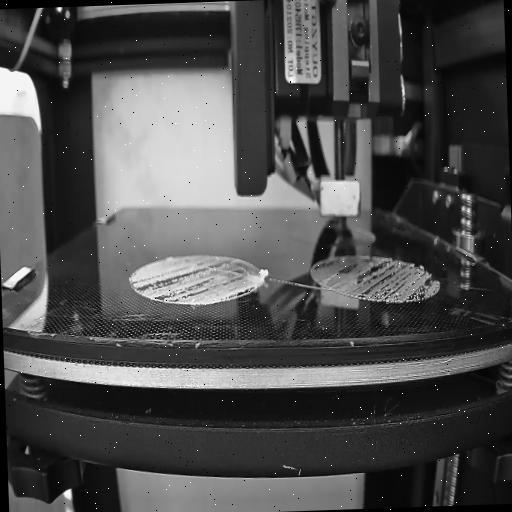under_extrusion: (130, 258, 257, 306), (338, 252, 440, 306), (308, 252, 338, 274)
